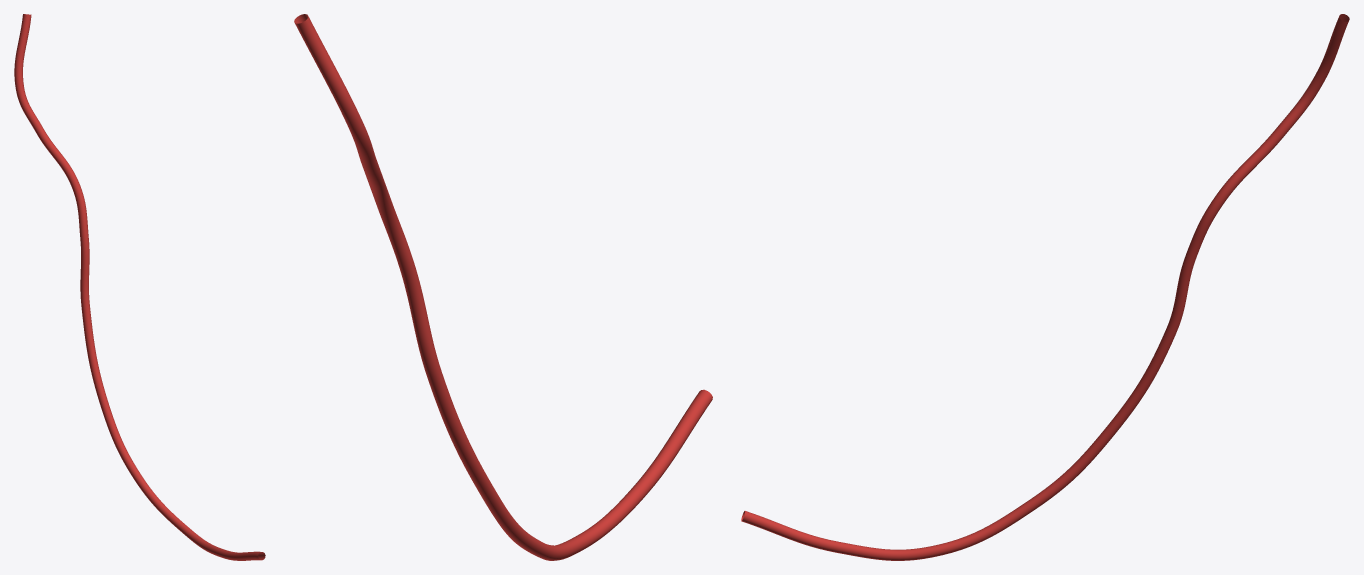
3 views of the same model, side by side, from view 1: azimuth 30°, elevation 25°; view 2: azimuth 150°, elevation 25°; view 3: azimuth 270°, elevation 25° (orthographic). The views are drawn at different scales.
Parts seen in each view (by area): view 1: 右侧筛前动脉鼻中隔前支; view 2: 右侧筛前动脉鼻中隔前支; view 3: 右侧筛前动脉鼻中隔前支.
Part boxes in pixels (x1=…): 右侧筛前动脉鼻中隔前支: x1=14, y1=14, x2=265, y2=560; 右侧筛前动脉鼻中隔前支: x1=294, y1=14, x2=712, y2=560; 右侧筛前动脉鼻中隔前支: x1=741, y1=14, x2=1349, y2=560.
Size of the model in its own units: 0.00255 by 0.0312 by 0.0318.
